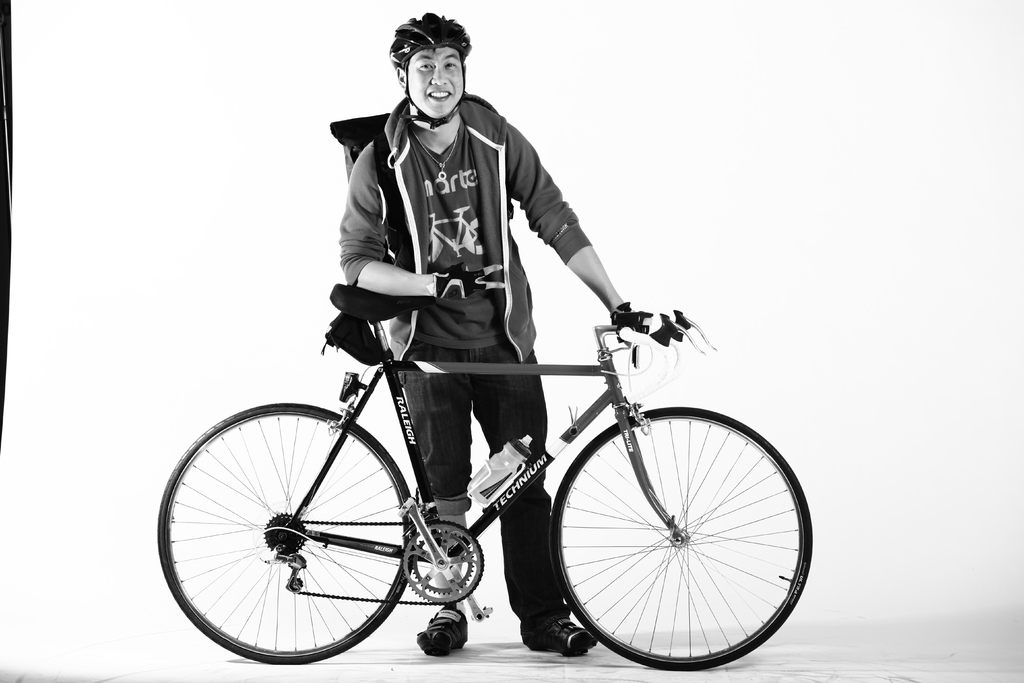Bike_toward: (123, 280, 841, 683)
